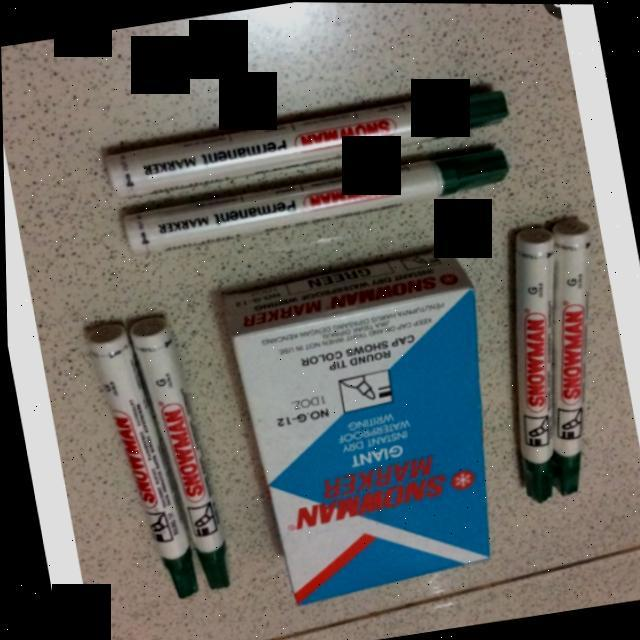marker: (82, 322, 200, 612), (130, 303, 228, 597), (553, 215, 600, 498)
